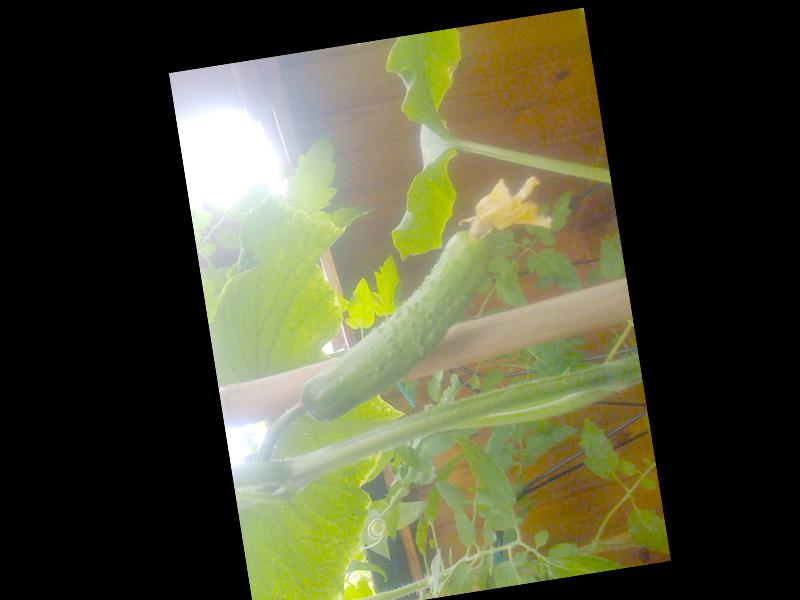Cucumber: (272, 169, 578, 423)
